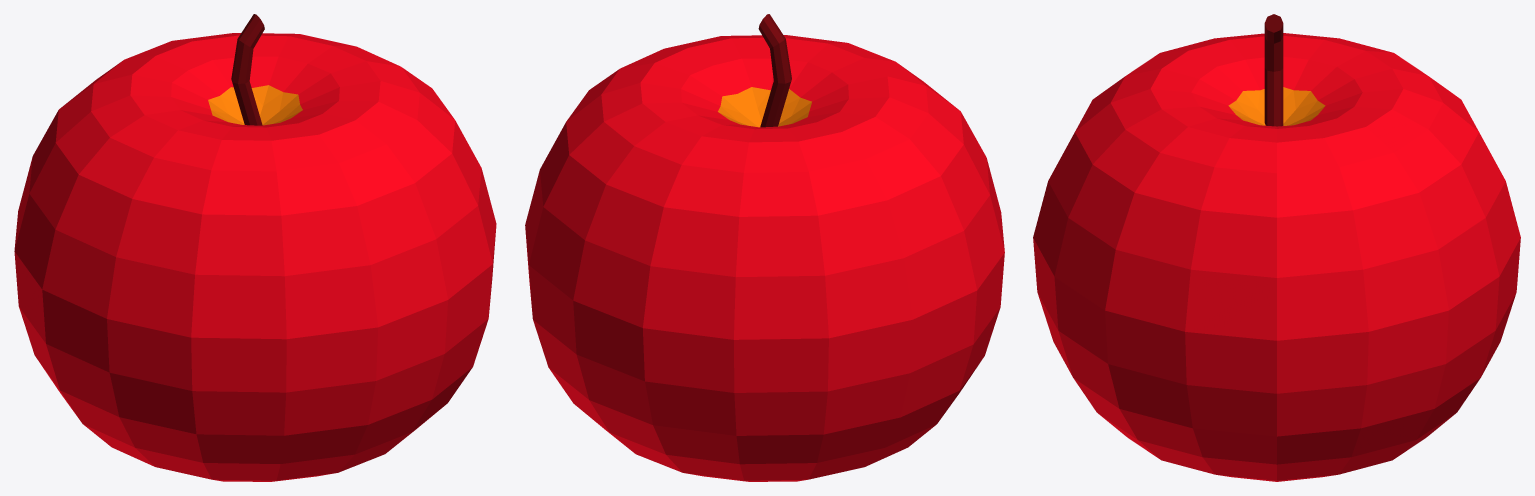
Rendered from Apfel.fbx.
3 renders of one model, left to right at view 1: azimuth 30°, elevation 25°; view 2: azimuth 150°, elevation 25°; view 3: azimuth 270°, elevation 25°, orthographic.
Visible parts, largest first — view 1: Cube.008, Cylinder.001; view 2: Cube.008, Cylinder.001; view 3: Cube.008, Cylinder.001.
Boxes of the visible parts, left/top/right/bottom form: Cube.008: left=14, top=33, right=496, bottom=481; Cylinder.001: left=231, top=14, right=264, bottom=125; Cube.008: left=525, top=35, right=1004, bottom=481; Cylinder.001: left=758, top=14, right=791, bottom=127; Cube.008: left=1033, top=33, right=1520, bottom=481; Cylinder.001: left=1264, top=14, right=1283, bottom=126.
Bounding box in the file's own units: 571 × 549 × 570.
